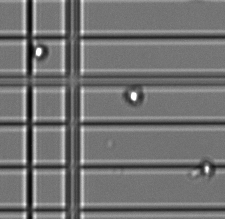Living Cell: (125, 86, 144, 106), (200, 158, 216, 179), (32, 44, 48, 58)
